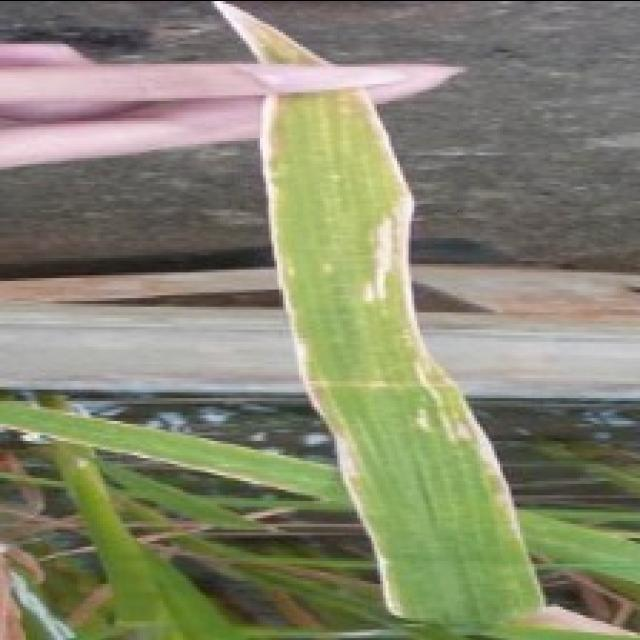Unhealthy: (261, 95, 400, 616), (354, 87, 460, 446), (22, 404, 339, 472), (0, 423, 287, 490), (456, 393, 525, 550), (212, 0, 332, 63), (359, 212, 394, 304), (414, 405, 433, 433)
